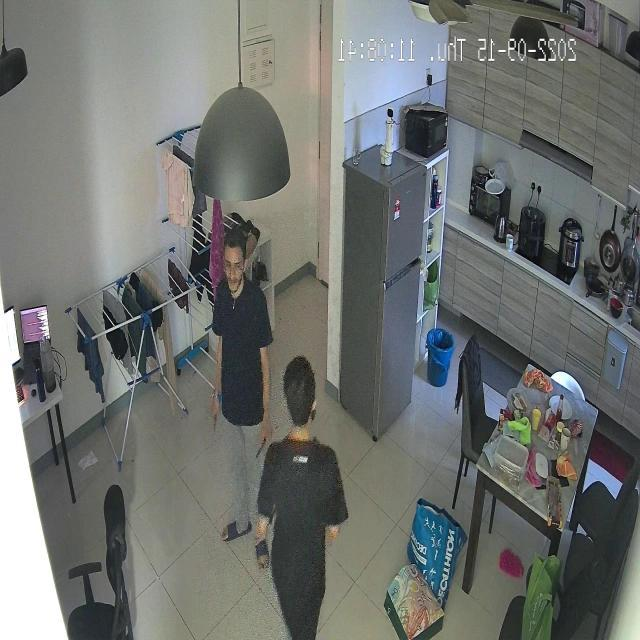Knife: (250, 437, 268, 461)
